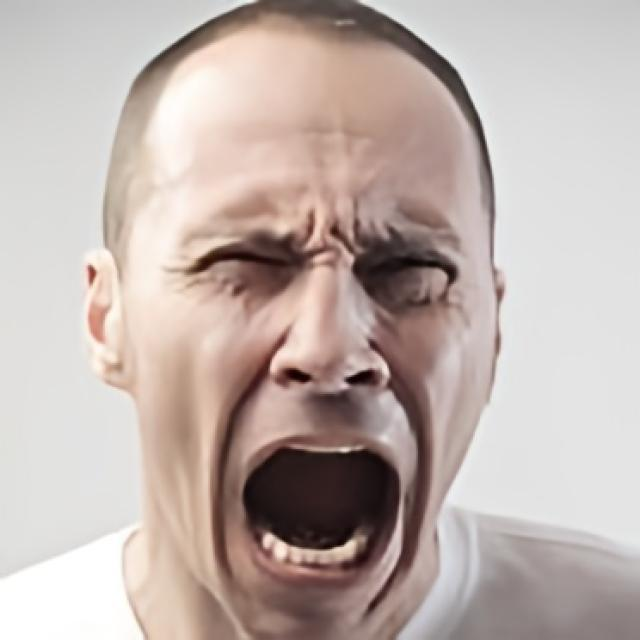anger: (129, 91, 501, 640)
